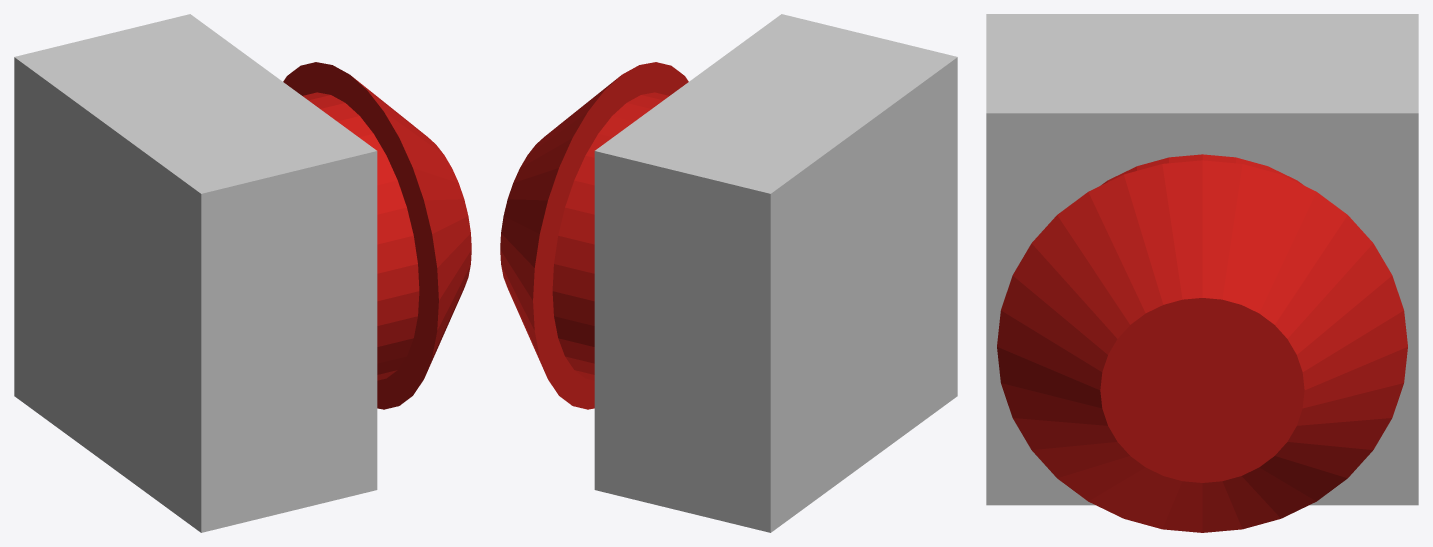
The model's file is powerButton.fbx.
3 views of the same model, side by side, from view 1: azimuth 30°, elevation 25°; view 2: azimuth 150°, elevation 25°; view 3: azimuth 270°, elevation 25° (orthographic). The views are drawn at different scales.
Parts seen in each view (by area): view 1: Cube.001, Cube, Cube.002; view 2: Cube.001, Cube, Cube.002; view 3: Cube, Cube.001, Cube.002.
Part boxes in pixels (x1=…): Cube.001: x1=14, y1=14, x2=377, y2=532; Cube: x1=283, y1=62, x2=471, y2=409; Cube.002: x1=303, y1=92, x2=419, y2=380; Cube.001: x1=594, y1=14, x2=957, y2=532; Cube: x1=500, y1=62, x2=688, y2=409; Cube.002: x1=552, y1=92, x2=668, y2=380; Cube: x1=997, y1=160, x2=1407, y2=532; Cube.001: x1=986, y1=14, x2=1418, y2=505; Cube.002: x1=1100, y1=154, x2=1304, y2=185.
Size of the model in its own units: 197 by 200 by 200.
